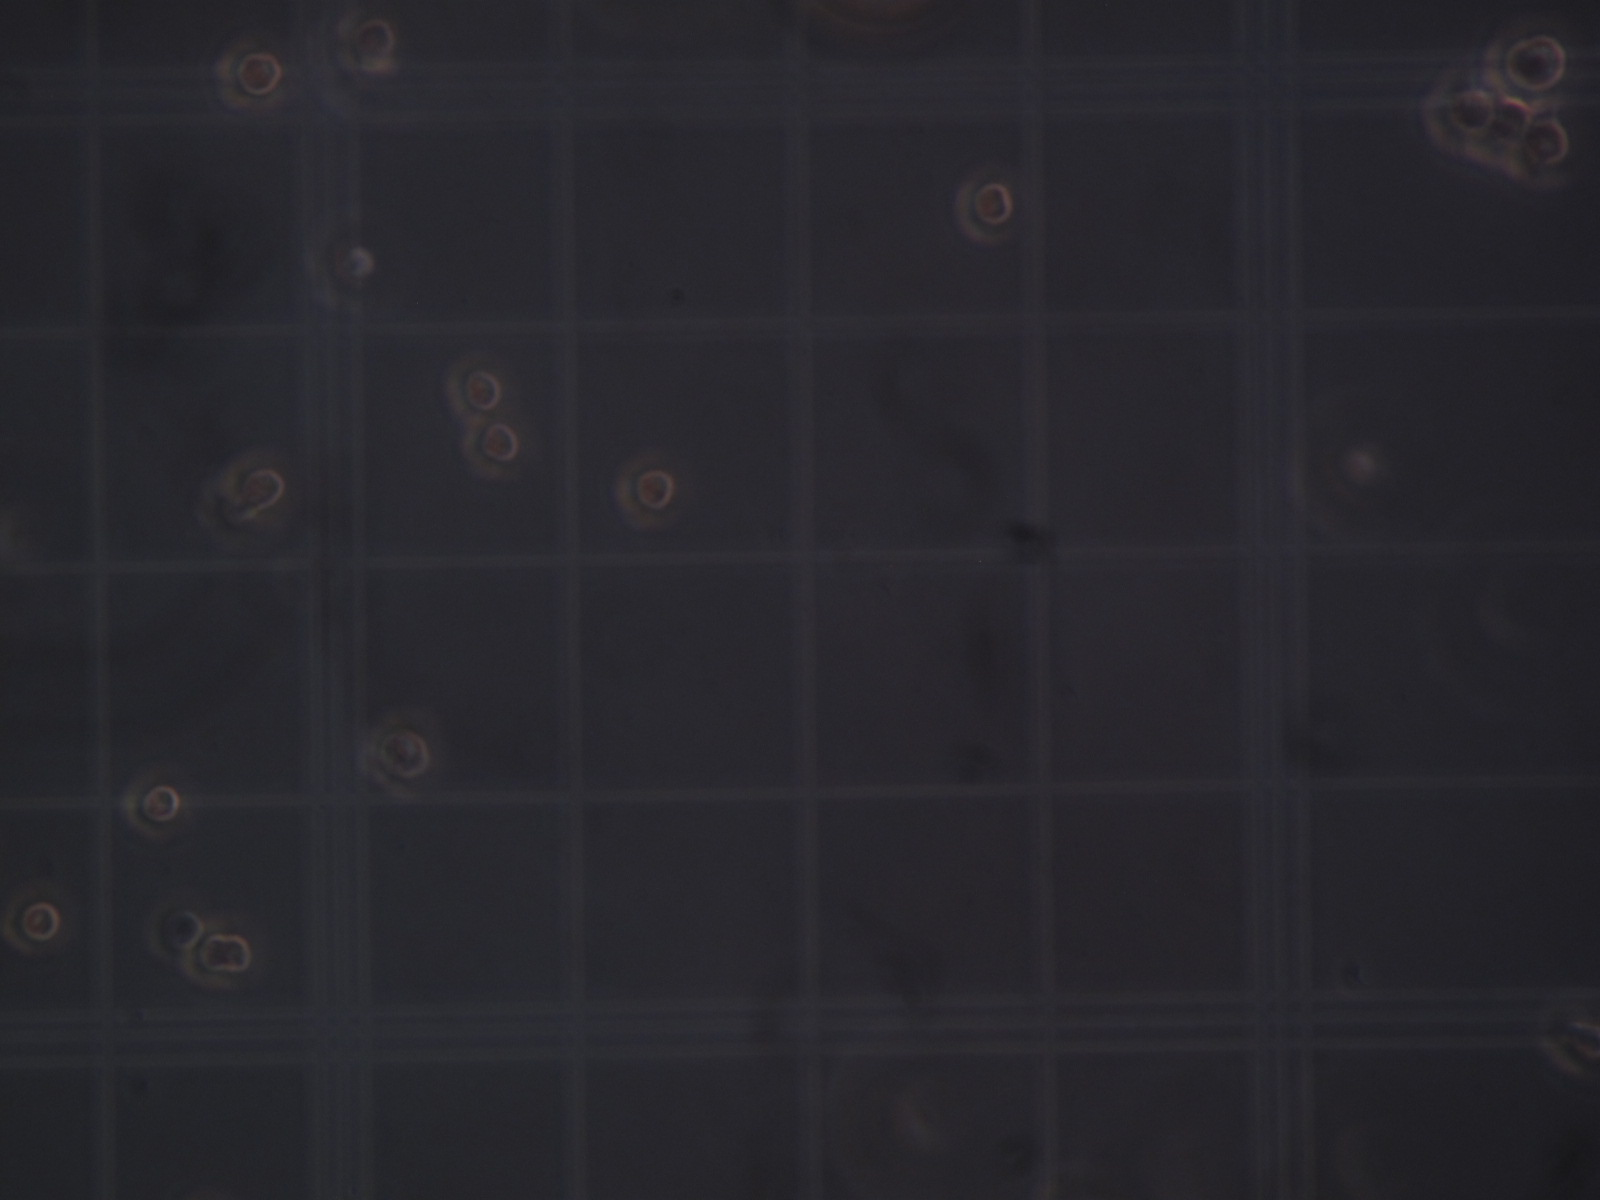hemo: (306, 221, 375, 313), (1421, 76, 1498, 158), (1483, 30, 1569, 101), (360, 720, 431, 800), (1536, 1001, 1599, 1079), (213, 42, 283, 111), (1509, 113, 1571, 189), (614, 458, 675, 528), (184, 926, 252, 988), (954, 176, 1014, 245), (1480, 92, 1532, 171), (121, 774, 181, 839), (1, 890, 60, 957), (336, 11, 398, 74), (147, 899, 204, 963), (224, 456, 286, 514), (464, 417, 520, 480), (445, 361, 501, 421)
